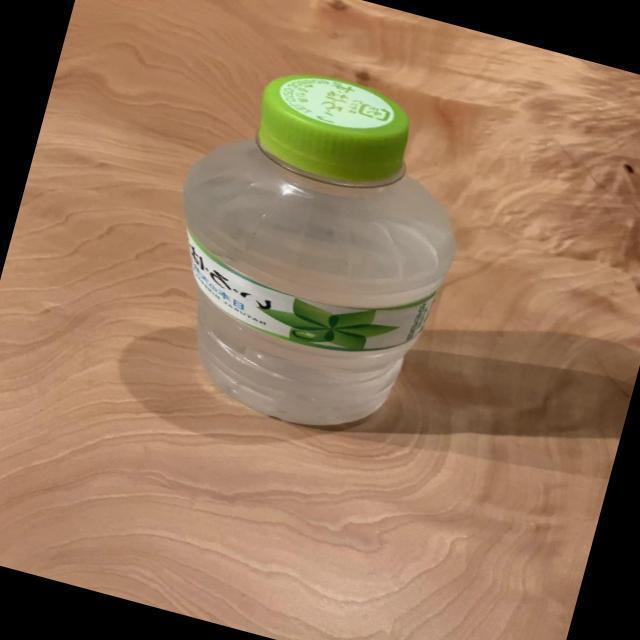good: (128, 44, 494, 454)
